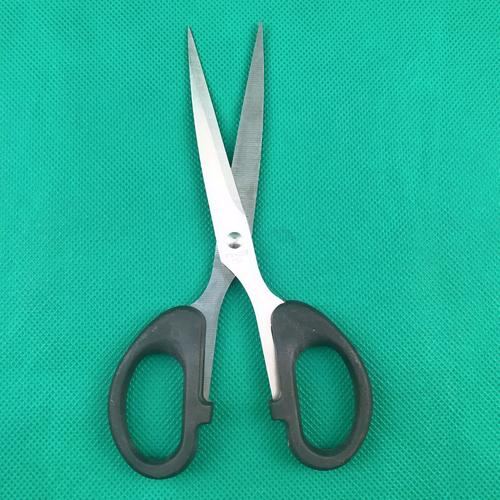scissor: (109, 22, 373, 479)
